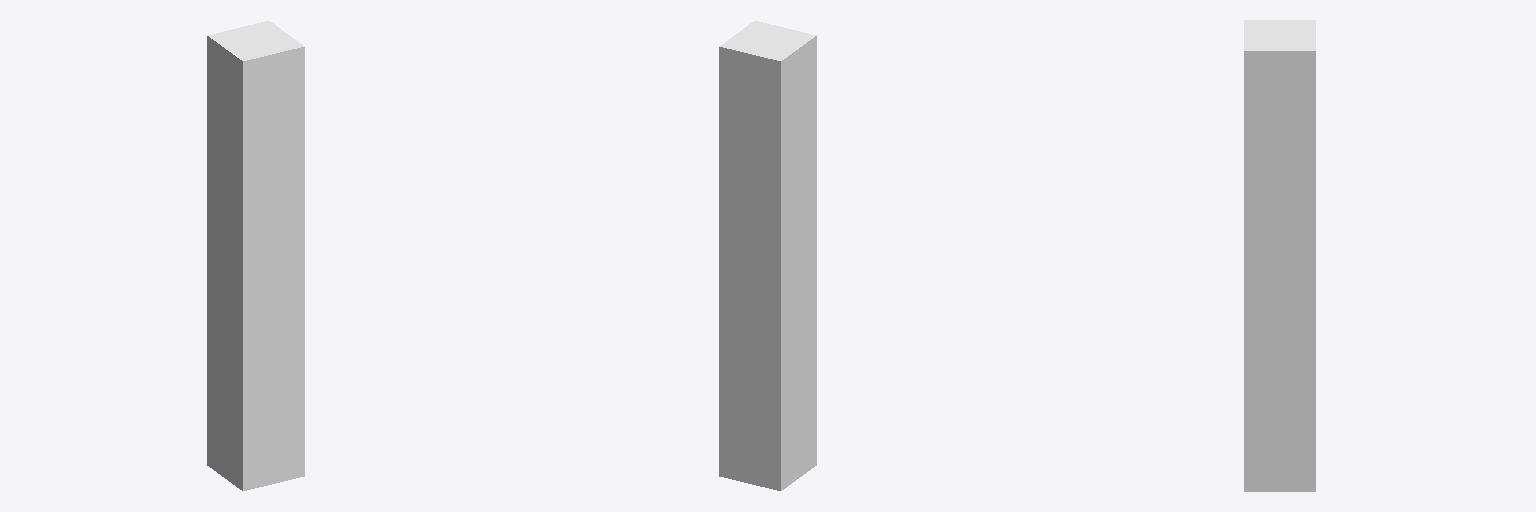
URDF robot description (rect.urdf):
<?xml version="1.0" ?>
<robot name="rect.urdf">
  <link name="baseLink">
    <contact>
    	<friction_anchor/>
    	   <lateral_friction value="1.0"/>
    </contact>
    <inertial>
      <origin rpy="0 0 0" xyz="0 0 0"/>
       <mass value=".1"/>
       <inertia ixx="1" ixy="0" ixz="0" iyy="1" iyz="0" izz="1"/>
    </inertial>
    <visual>
      <origin rpy="0 0 0" xyz="0 0 0"/>
      <geometry>
				<box size="0.015 0.015 0.1" />
      </geometry>
       <material name="white">
        <color rgba="1 1 1 1"/>
      </material>
    </visual>
    <collision>
      <origin rpy="0 0 0" xyz="0 0 0"/>
      <geometry>
	 	<box size="0.015 0.015 0.1" />
      </geometry>
    </collision>
  </link>
</robot>

--- What the picture shows (computed from the rendered views, not written in the file) ---
Views: 3 orthographic renders of the robot side by side, from view 1: azimuth 30°, elevation 25°; view 2: azimuth 150°, elevation 25°; view 3: azimuth 270°, elevation 25°.
Model rect.urdf with 1 links and 0 joints (none), rooted at baseLink, posed every joint at zero.
Links seen in each view (by area): view 1: baseLink; view 2: baseLink; view 3: baseLink.
Boxes of the visible links, left/top/right/bottom form: baseLink: left=207, top=21, right=304, bottom=490; baseLink: left=719, top=21, right=816, bottom=490; baseLink: left=1244, top=20, right=1315, bottom=491.
Bounding box of the posed robot: 0.015 × 0.015 × 0.1 m (x, y, z).
Geometry: primitives only (box / cylinder / sphere), no mesh files.